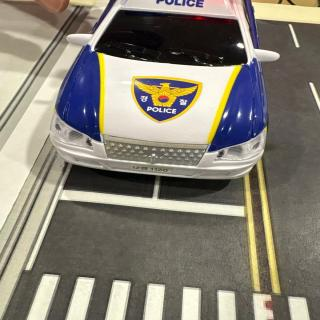Police_car: (50, 0, 279, 179)
